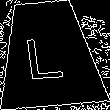L_N: (26, 27, 71, 81)
